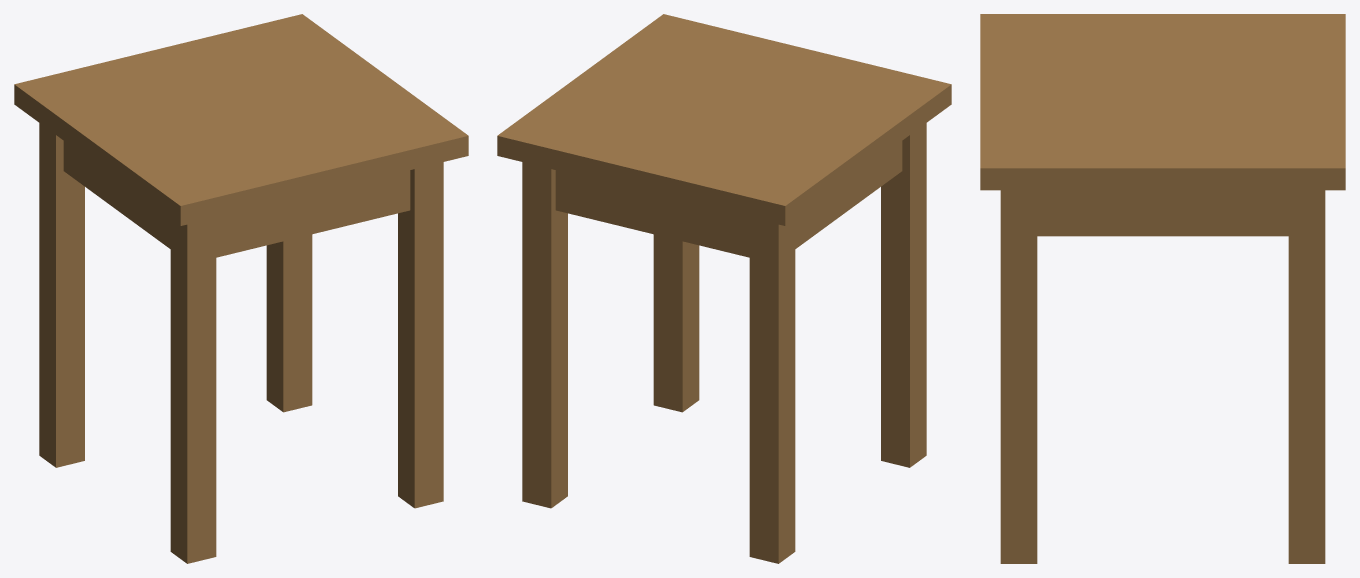
The model's file is HIN-SID-std.glb.
3 views of the same model, side by side, from view 1: azimuth 30°, elevation 25°; view 2: azimuth 150°, elevation 25°; view 3: azimuth 270°, elevation 25° (orthographic). The views are drawn at different scales.
Visible parts, largest first — view 1: top:pbr, leg-fl:pbr, leg-fr:pbr, leg-bl:pbr, apron-f:pbr, leg-br:pbr, apron-l:pbr; view 2: top:pbr, leg-bl:pbr, leg-br:pbr, leg-fl:pbr, apron-b:pbr, leg-fr:pbr, apron-l:pbr; view 3: top:pbr, leg-fr:pbr, leg-br:pbr, apron-r:pbr.
Part boxes in pixels (x1,y1,x2,y2): top:pbr: (14,14,468,225); leg-fl:pbr: (170,217,216,563); leg-fr:pbr: (398,162,443,508); leg-bl:pbr: (39,123,84,467); apron-f:pbr: (216,170,410,257); leg-br:pbr: (266,234,312,412); apron-l:pbr: (63,141,170,248); top:pbr: (497,14,951,225); leg-bl:pbr: (749,217,795,563); leg-br:pbr: (522,162,567,508); leg-fl:pbr: (881,123,926,467); apron-b:pbr: (555,170,749,257); leg-fr:pbr: (653,234,699,412); apron-l:pbr: (795,141,902,248); top:pbr: (980,14,1345,190); leg-fr:pbr: (1000,190,1037,563); leg-br:pbr: (1288,190,1325,563); apron-r:pbr: (1037,190,1288,236).
Bounding box in the file's own units: 0.45 × 0.55 × 0.45.
